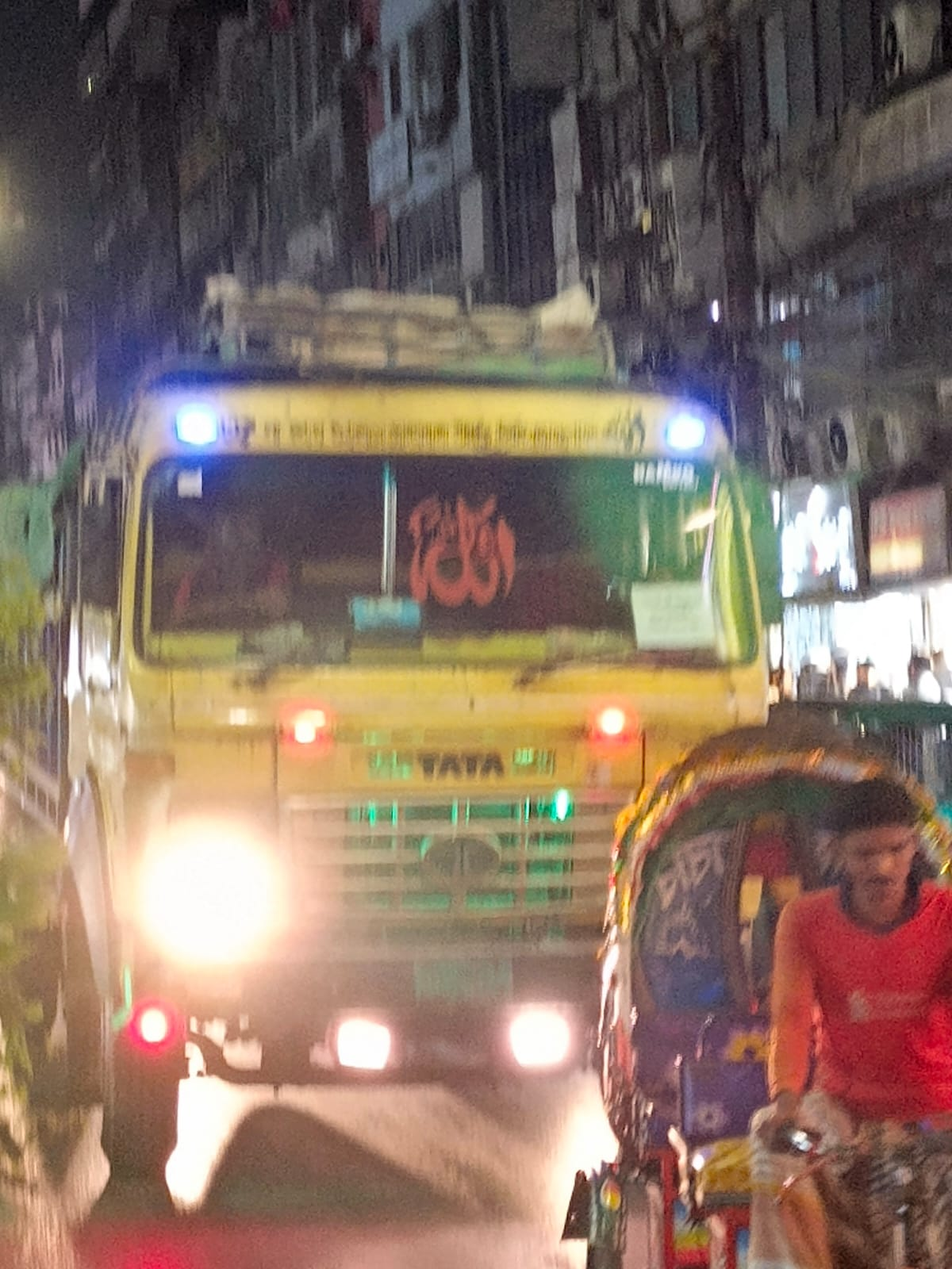Truck: (32, 241, 808, 1269)
auto-ricksaw: (571, 669, 952, 1269)
